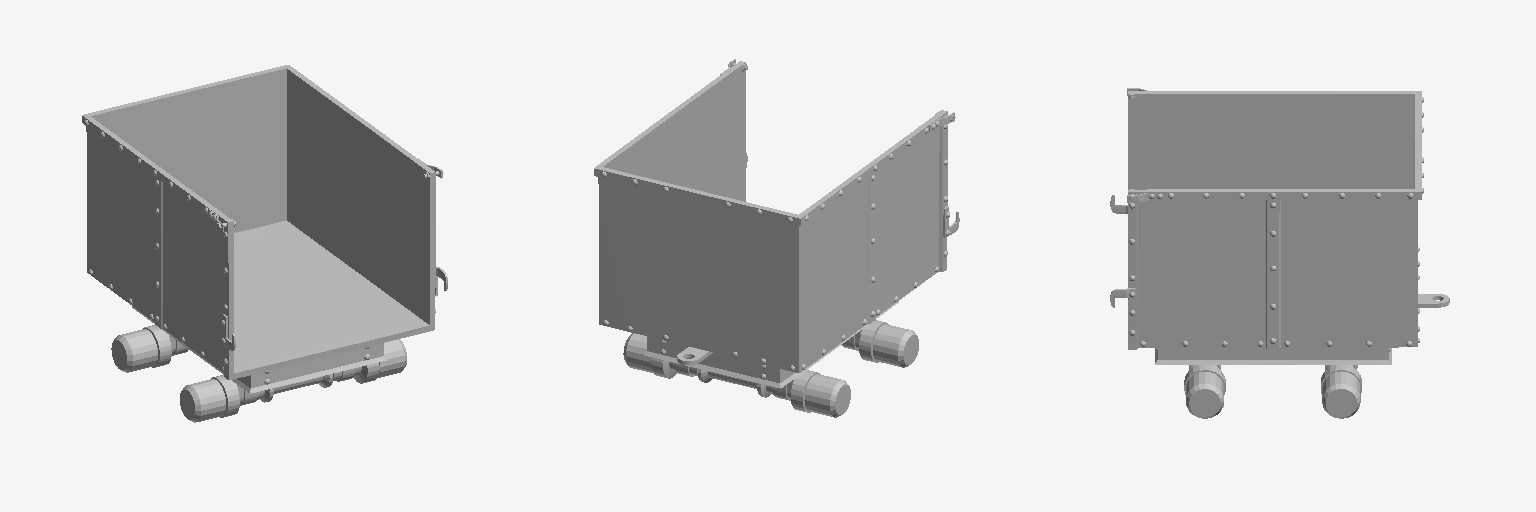
Rendered from mineCart.obj.
3 renders of one model, left to right at view 1: azimuth 30°, elevation 25°; view 2: azimuth 150°, elevation 25°; view 3: azimuth 270°, elevation 25°, orthographic.
Parts seen in each view (by area): view 1: MineCart_Bucket.001_MineCart_Mat.001; view 2: MineCart_Bucket.001_MineCart_Mat.001; view 3: MineCart_Bucket.001_MineCart_Mat.001.
Boxes of the visible parts, box(x1,y1,x2,y2) form: MineCart_Bucket.001_MineCart_Mat.001: box(82, 65, 447, 422); MineCart_Bucket.001_MineCart_Mat.001: box(594, 59, 959, 417); MineCart_Bucket.001_MineCart_Mat.001: box(1110, 88, 1449, 418).
Bounding box in the file's own units: 0.0829 × 0.0811 × 0.109.